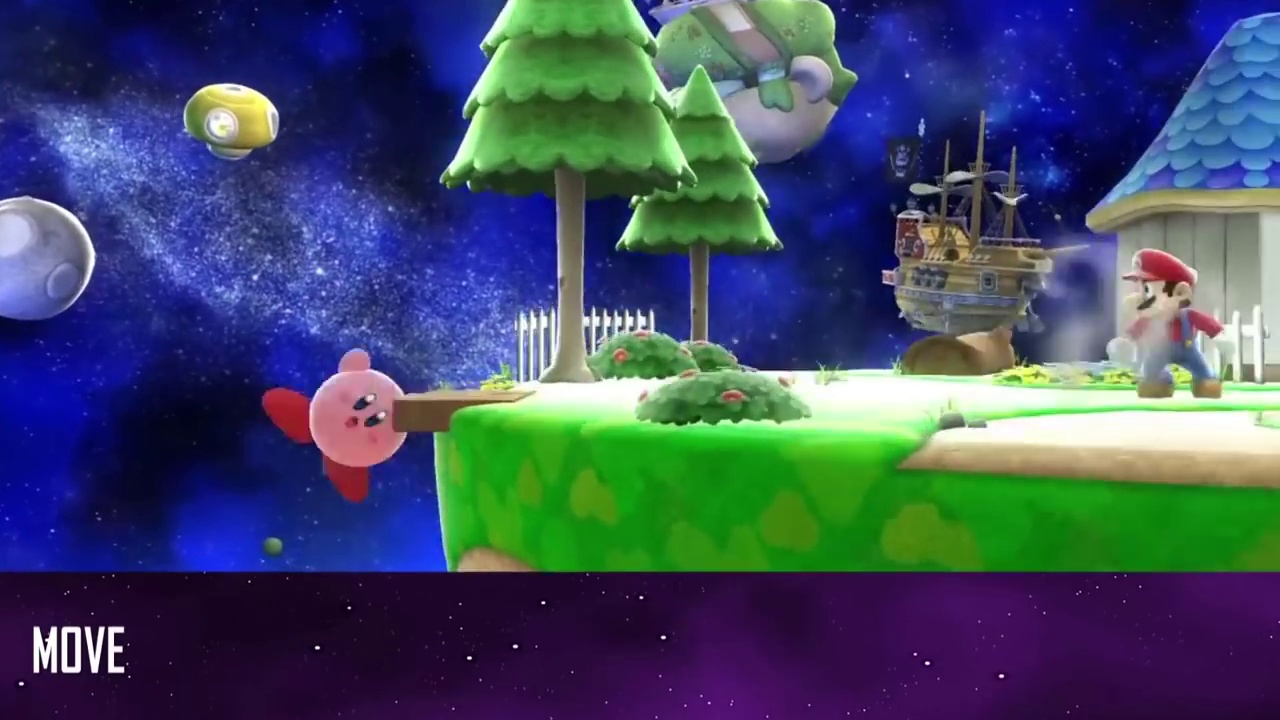Mario: (1111, 250, 1234, 402)
